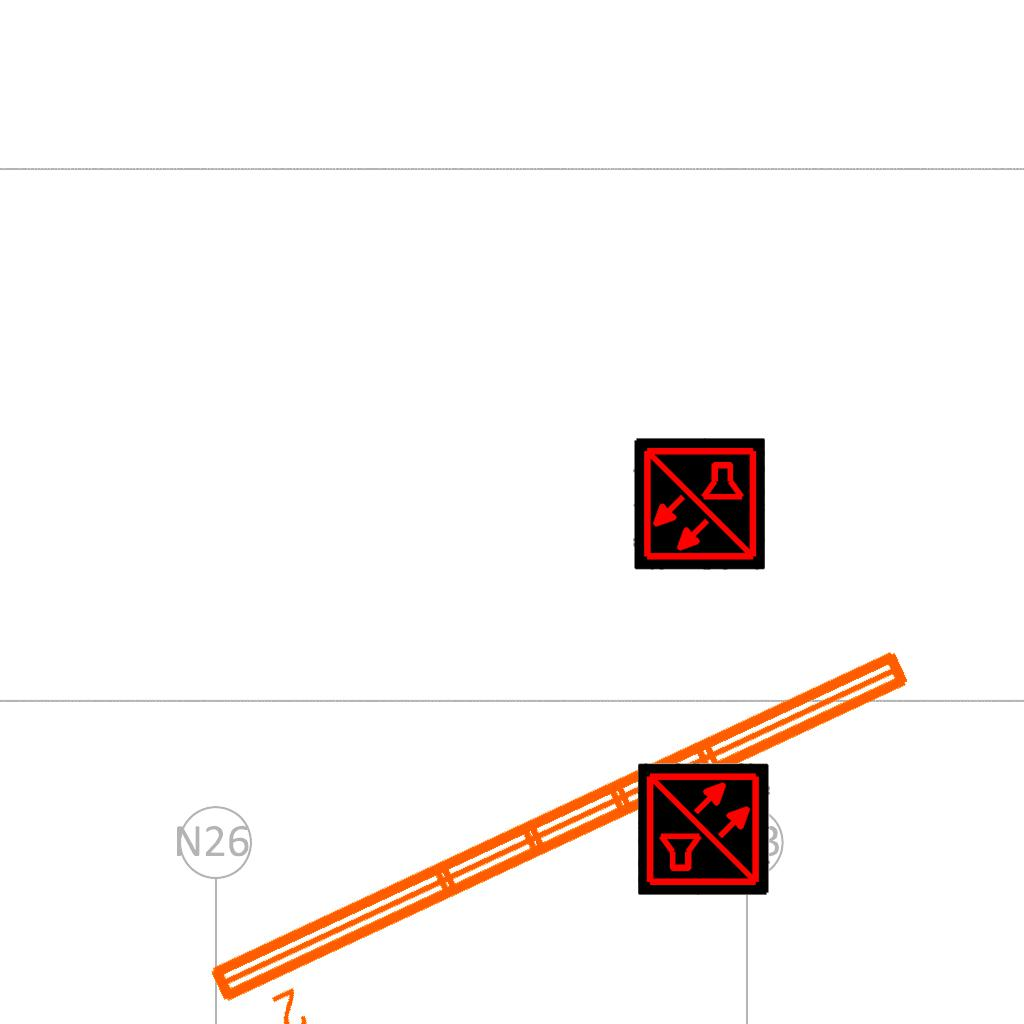Ambulanz_Pendelleuchte_LED: (196, 634, 946, 1024)
OKW_Multisensormelder_(Kombination_optischer_Rauch-Kahlenmonoxid_Waerme-Melder): (633, 438, 765, 570), (638, 763, 770, 895)
